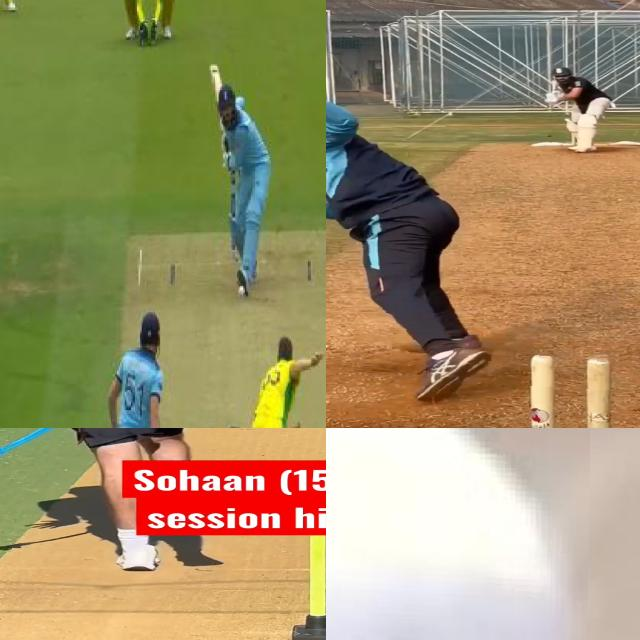Cricket ball: (326, 428, 590, 640), (236, 285, 249, 297)
Stumps: (529, 352, 640, 428)
